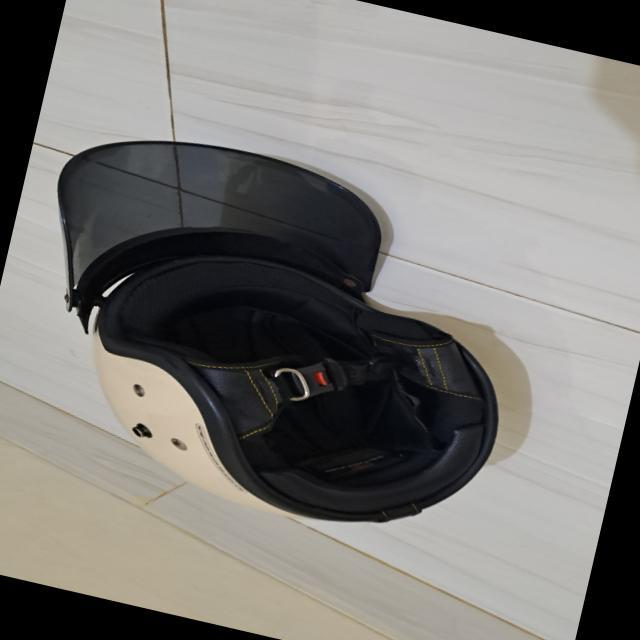Helm: (0, 101, 570, 565)
